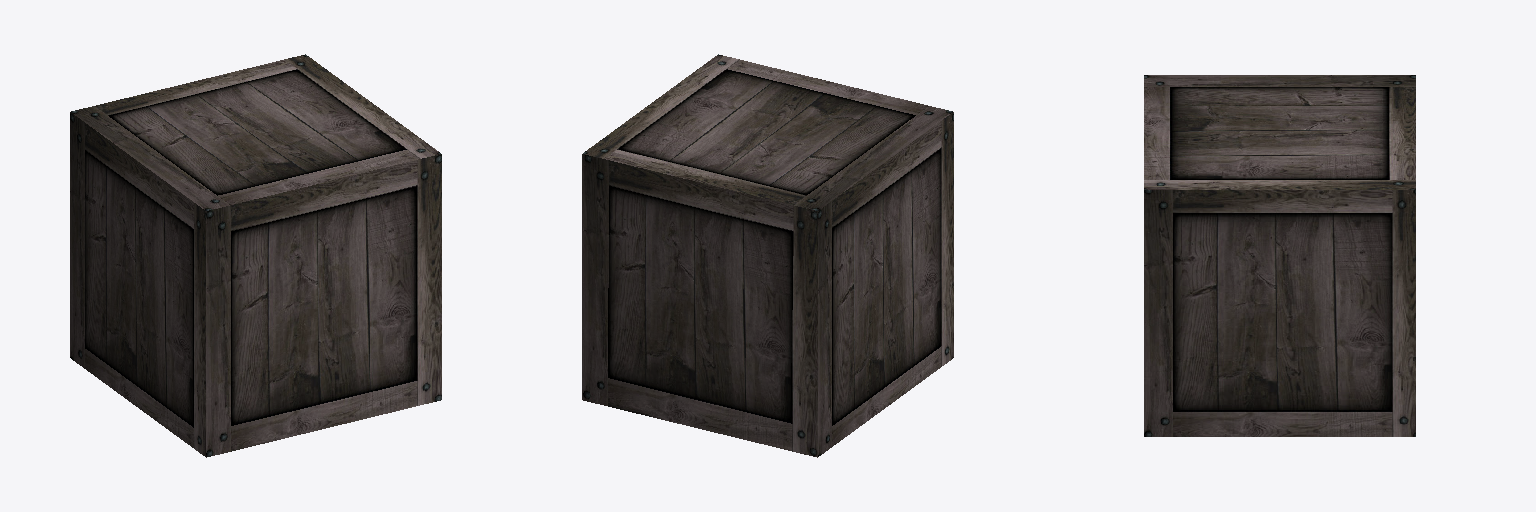
3 views of the same model, side by side, from view 1: azimuth 30°, elevation 25°; view 2: azimuth 150°, elevation 25°; view 3: azimuth 270°, elevation 25° (orthographic).
Visible parts, largest first — view 1: pCube1; view 2: pCube1; view 3: pCube1.
Part boxes in pixels (x1,y1,x2,y2): pCube1: (70,54,441,457); pCube1: (582,54,953,457); pCube1: (1144,75,1415,436).
Bounding box in the file's own units: 1 × 1 × 1.
Materials: 1 (1 with a texture image).